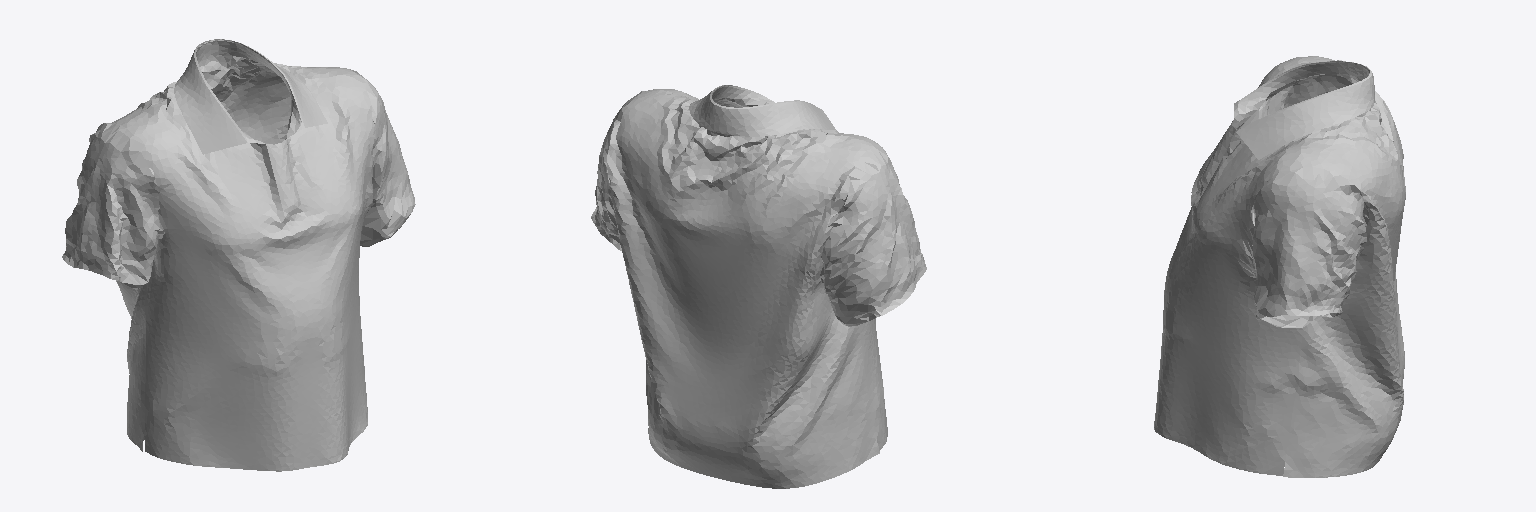
File: XL_Tall.obj
3 renders of one model, left to right at view 1: azimuth 30°, elevation 25°; view 2: azimuth 150°, elevation 25°; view 3: azimuth 270°, elevation 25°, orthographic.
Visible parts, largest first — view 1: polo3-30.008; view 2: polo3-30.008; view 3: polo3-30.008.
Boxes of the visible parts, <box> form: polo3-30.008: <box>62,39,415,471</box>; polo3-30.008: <box>591,85,926,488</box>; polo3-30.008: <box>1154,56,1405,477</box>.
Bounding box in the file's own units: 0.6824 × 0.7379 × 0.4611.